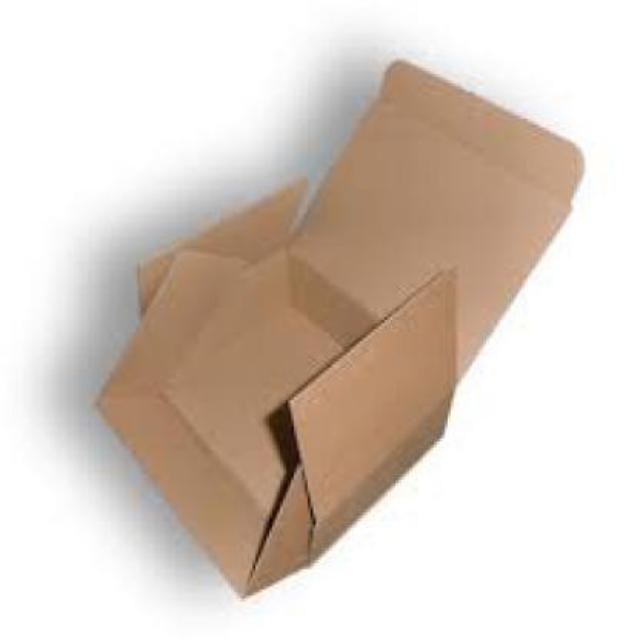cardboard_box: (92, 76, 586, 592)
